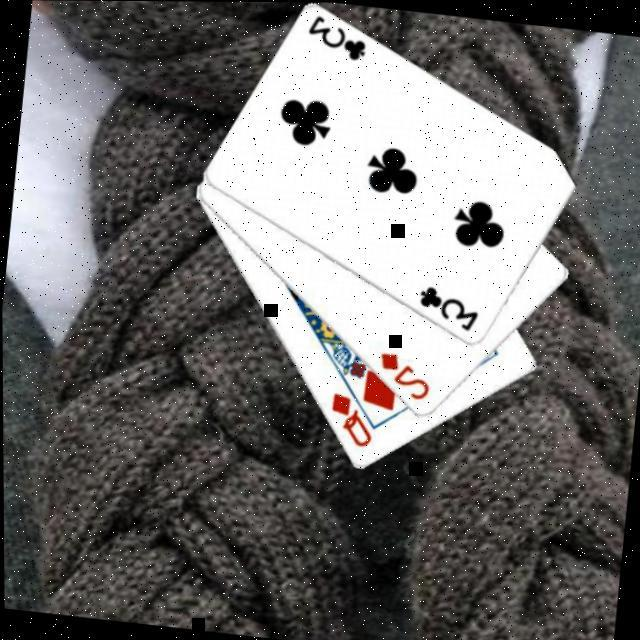2D: (373, 348, 437, 403)
3C: (303, 9, 374, 64), (415, 280, 485, 334)
QD: (324, 388, 380, 450)
